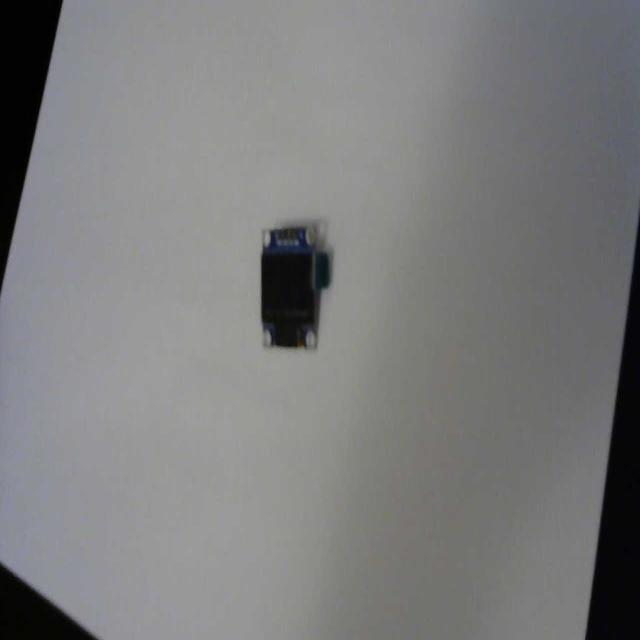oled: (254, 216, 336, 356)
